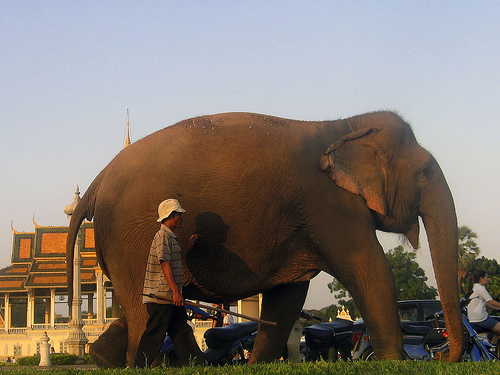elephant: (50, 102, 466, 370)
